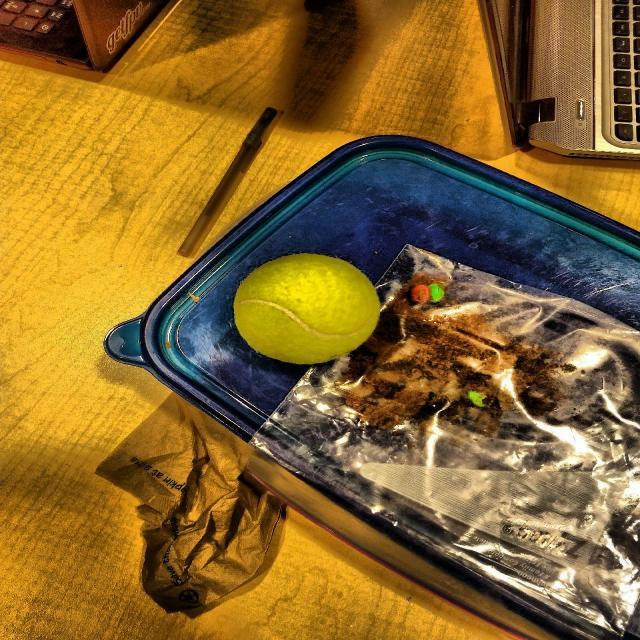tennis-ball: (219, 252, 405, 366)
